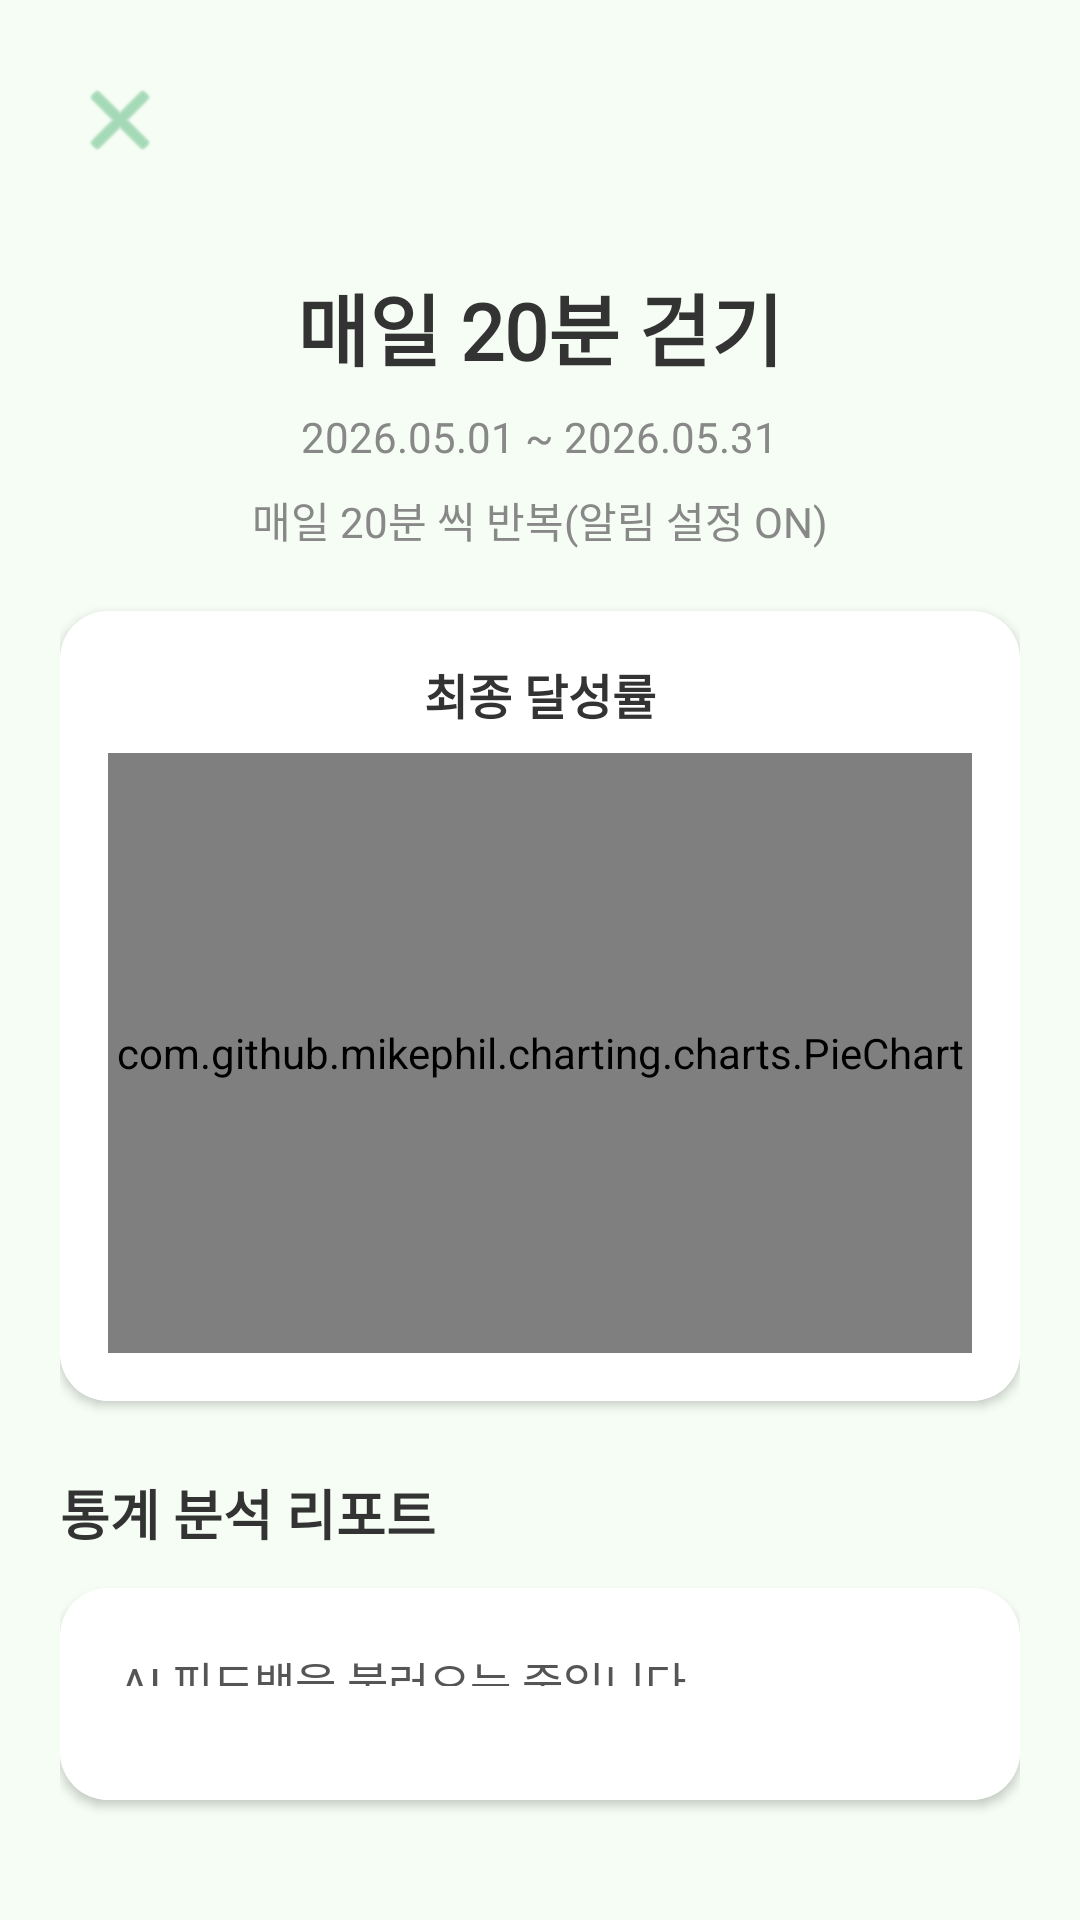

Screen size 1080x1920. Icon name, then its center in pixels as [x,y]:
close clear cancel: [120,120]
